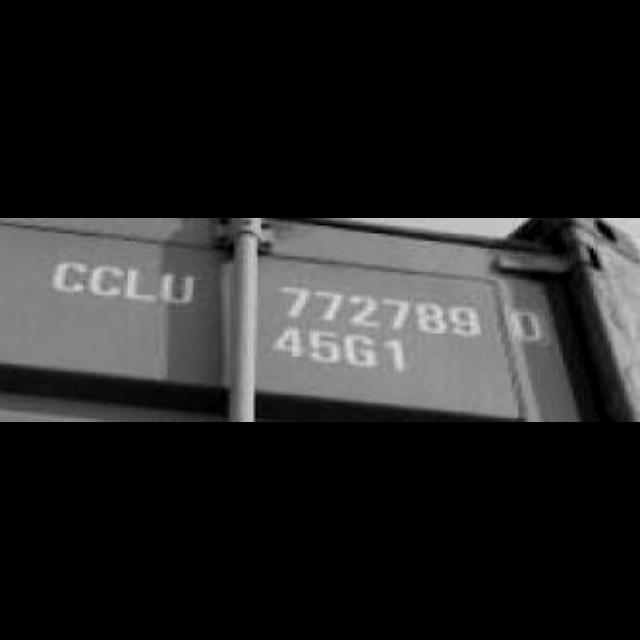0: (510, 306, 546, 350)
1: (381, 335, 413, 379)
2: (350, 288, 382, 336)
4: (272, 321, 302, 365)
5: (308, 327, 342, 371)
7: (315, 284, 345, 332), (280, 280, 312, 324), (382, 294, 413, 338)
8: (416, 296, 448, 342)
9: (449, 299, 486, 347)
c: (50, 258, 90, 300), (92, 258, 126, 304)
g: (344, 329, 378, 373)
l: (126, 260, 160, 306)
u: (161, 267, 199, 305)
